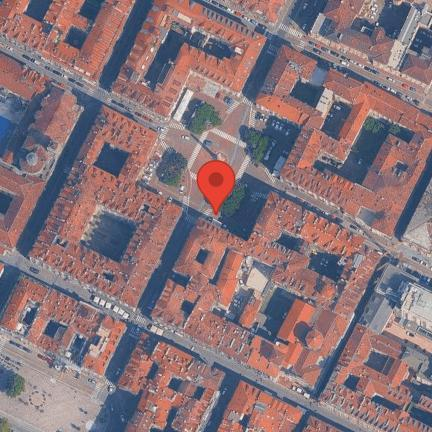area_open: (139, 89, 293, 220), (1, 333, 131, 431)
built: (150, 193, 382, 393), (254, 51, 429, 235), (28, 108, 183, 308), (0, 52, 92, 252), (323, 262, 430, 432), (108, 2, 268, 112), (6, 271, 127, 378), (3, 3, 132, 84), (314, 2, 429, 92), (123, 336, 226, 432), (219, 382, 336, 432), (404, 178, 429, 256), (222, 2, 284, 19)
